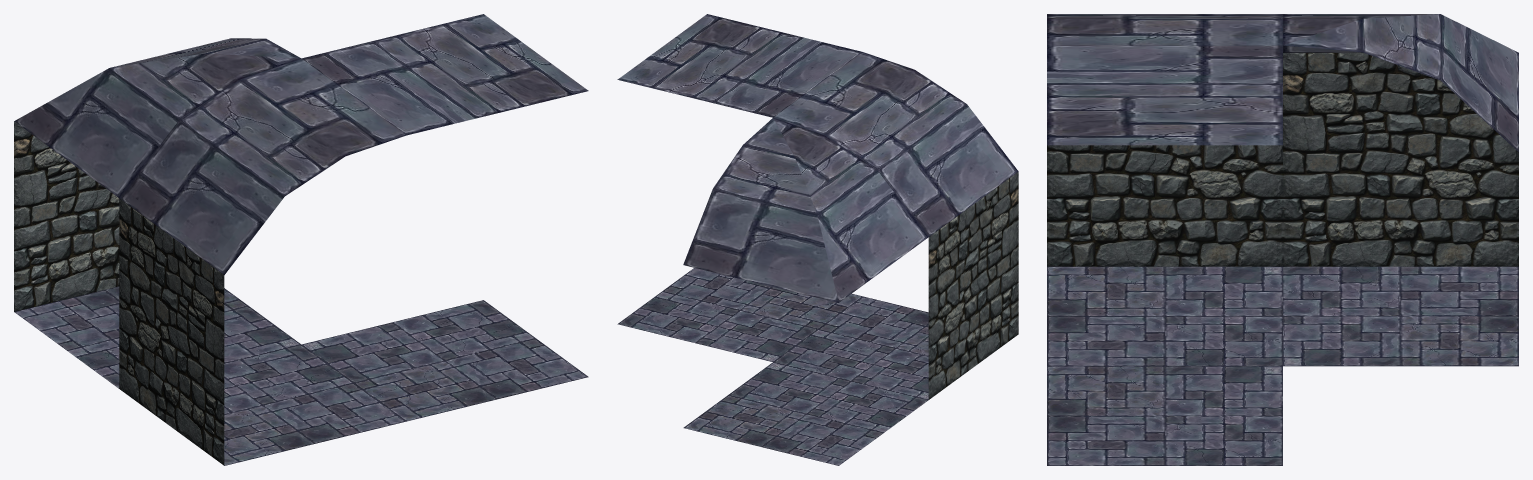
The model's file is BasicDungeon.glb.
3 renders of one model, left to right at view 1: azimuth 30°, elevation 25°; view 2: azimuth 150°, elevation 25°; view 3: azimuth 270°, elevation 25°, orthographic. The views are drawn at different scales.
Visible parts, largest first — view 1: Wall-Col, Corner-Col, Floor-Col; view 2: Wall-Col, Corner-Col, Floor-Col; view 3: Corner-Col, Wall-Col, Floor-Col.
Part boxes in pixels (bbox=[...]): Wall-Col: bbox=[119, 58, 406, 465]; Corner-Col: bbox=[14, 38, 300, 388]; Floor-Col: bbox=[302, 14, 588, 421]; Wall-Col: bbox=[773, 52, 1018, 399]; Corner-Col: bbox=[683, 118, 928, 465]; Floor-Col: bbox=[617, 14, 862, 361]; Corner-Col: bbox=[1283, 14, 1518, 366]; Wall-Col: bbox=[1047, 14, 1282, 366]; Floor-Col: bbox=[1047, 45, 1282, 465].
Bounding box in the file's own units: 4 × 3 × 4.
Materials: 2 (2 with a texture image).
